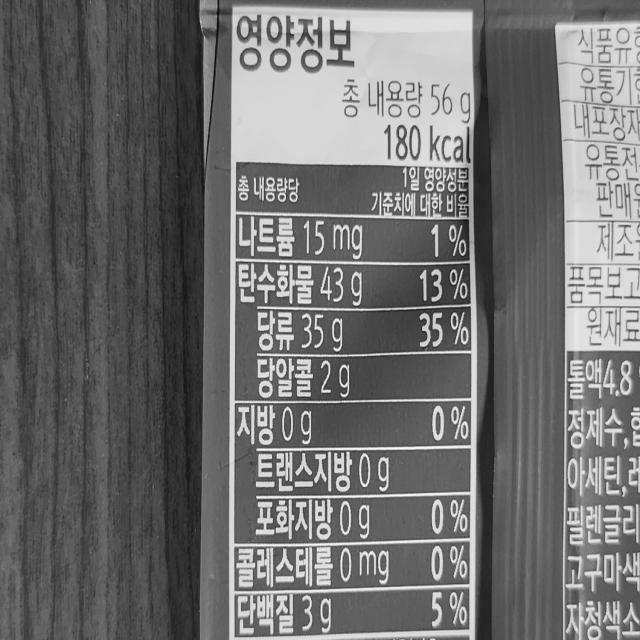Nutrition Label: (232, 1, 488, 640)
